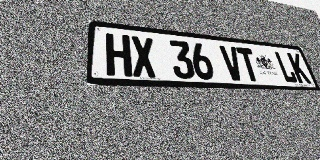3: (169, 40, 196, 79)
6: (189, 42, 215, 80)
H: (106, 33, 132, 77)
K: (287, 53, 311, 84)
L: (273, 51, 298, 83)
T: (236, 47, 262, 82)
V: (219, 45, 245, 81)
X: (130, 36, 157, 78)
